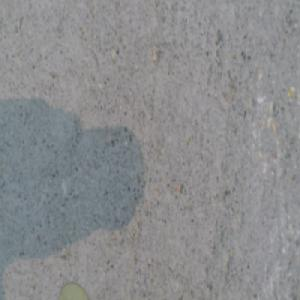Washer: (58, 282, 87, 300)
